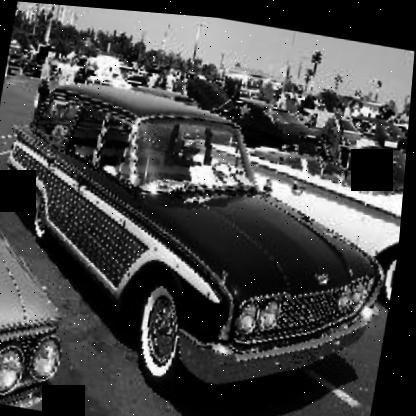not_emergency: (0, 59, 412, 415)
